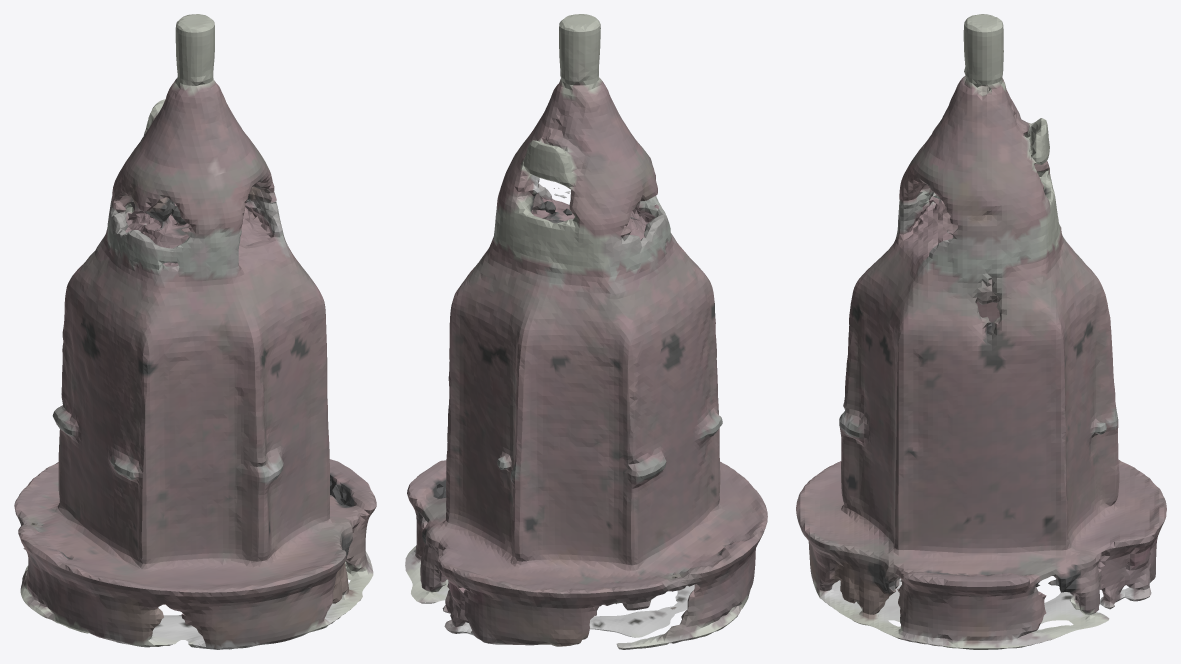
File: Building.fbx
3 renders of one model, left to right at view 1: azimuth 30°, elevation 25°; view 2: azimuth 150°, elevation 25°; view 3: azimuth 270°, elevation 25°, orthographic.
Visible parts, largest first — view 1: futuristic building.1; view 2: futuristic building.1; view 3: futuristic building.1.
Part boxes in pixels (left/top/right/bottom): futuristic building.1: left=14, top=14, right=376, bottom=649; futuristic building.1: left=405, top=14, right=767, bottom=649; futuristic building.1: left=796, top=14, right=1166, bottom=649.
Bounding box in the file's own units: 59.99 × 100 × 60.54.
